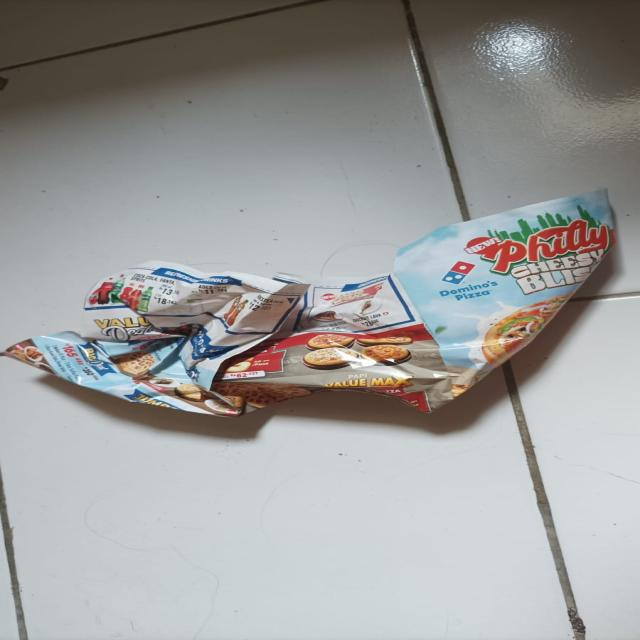Organik: (25, 187, 625, 420)
